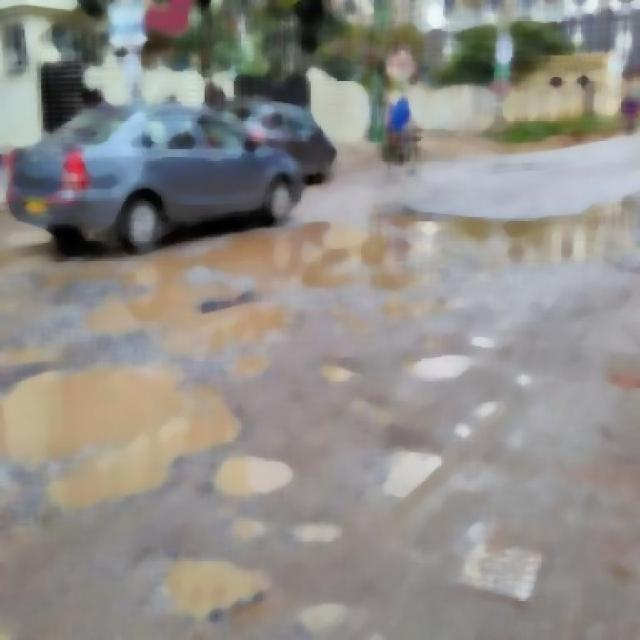Pothole: (0, 368, 211, 506), (152, 537, 254, 629), (375, 427, 448, 511), (212, 436, 285, 502)
